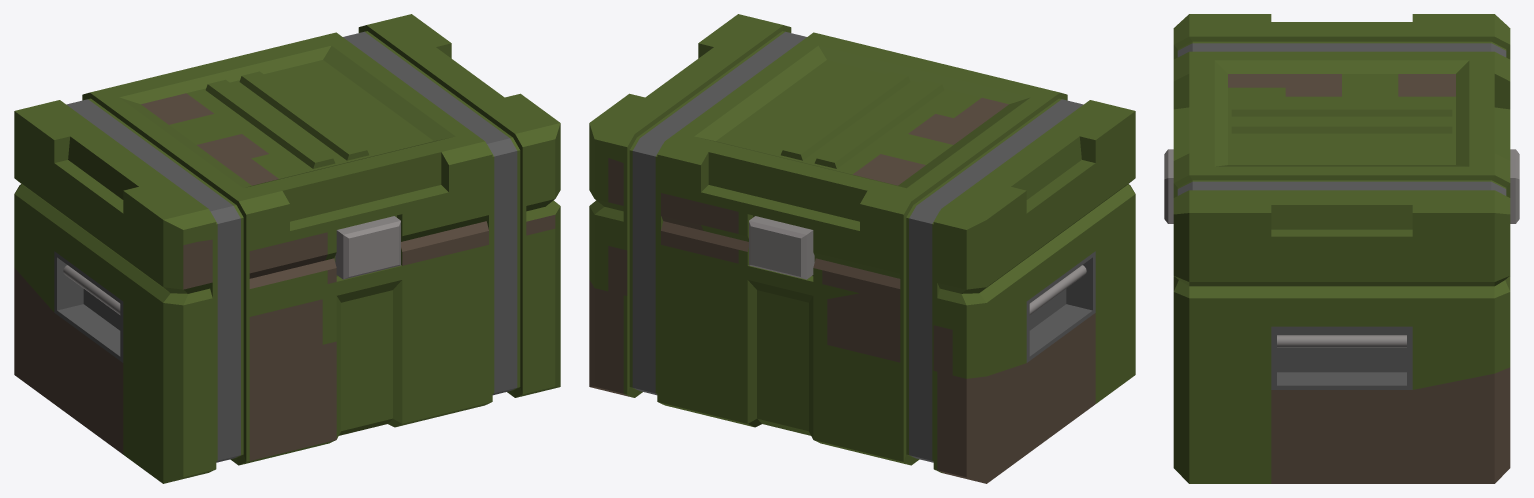
Rendered from Chest.glb.
3 views of the same model, side by side, from view 1: azimuth 30°, elevation 25°; view 2: azimuth 150°, elevation 25°; view 3: azimuth 270°, elevation 25° (orthographic). The views are drawn at different scales.
Visible parts, largest first — view 1: Chest; view 2: Chest; view 3: Chest.
Boxes of the visible parts, x1=… form: Chest: x1=14, y1=14, x2=560, y2=483; Chest: x1=589, y1=14, x2=1135, y2=483; Chest: x1=1164, y1=14, x2=1519, y2=483.
Size of the model in its own units: 0.6396 by 0.4062 by 0.4829.
Materials: 1 (1 with a texture image).
